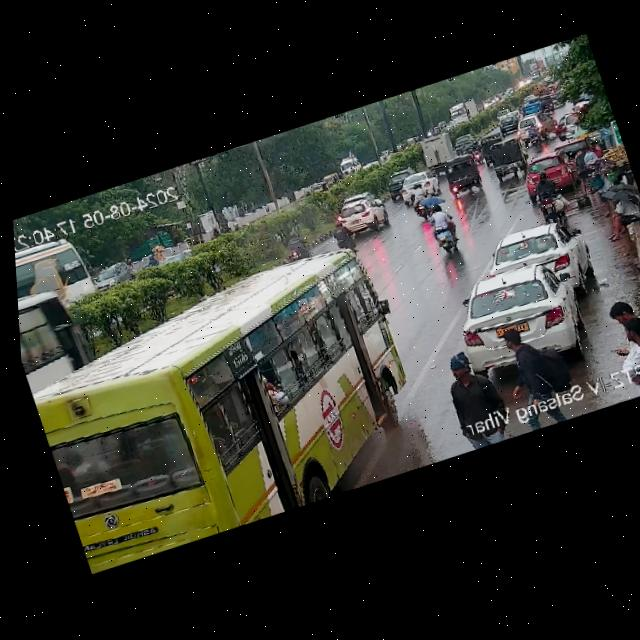bus: (15, 233, 445, 577), (16, 271, 96, 381), (14, 233, 97, 320), (276, 225, 313, 263)
car: (443, 253, 589, 375), (480, 212, 590, 296), (324, 189, 390, 244), (515, 145, 579, 200), (438, 153, 487, 200), (481, 136, 528, 180), (393, 165, 443, 203), (515, 110, 557, 144), (380, 164, 418, 201), (558, 107, 587, 137), (550, 113, 573, 141), (451, 132, 475, 154), (495, 113, 520, 134)
motorcycle: (523, 165, 574, 222), (423, 202, 459, 254), (327, 215, 359, 258), (404, 181, 435, 221), (524, 121, 545, 149), (467, 144, 485, 165)
person: (488, 311, 577, 432), (439, 342, 510, 450), (594, 186, 640, 243), (584, 156, 622, 220), (613, 318, 640, 397), (567, 143, 600, 195), (598, 297, 640, 332), (587, 138, 605, 160), (638, 254, 640, 384)
truck: (410, 131, 457, 174)
